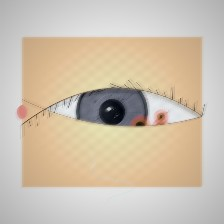foreign_body_visible: (152, 110, 170, 124)
